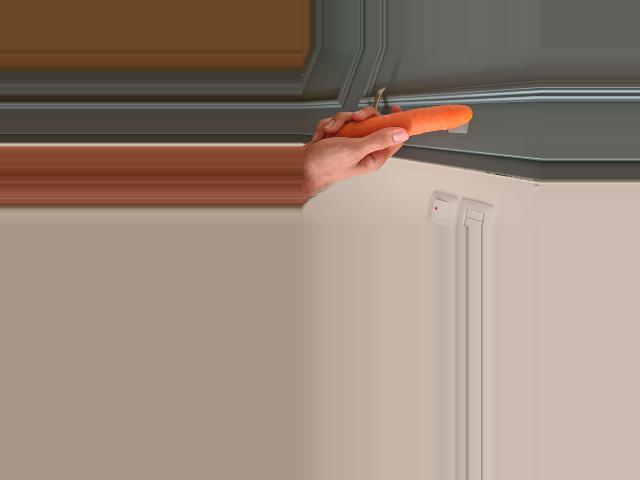carrot: (322, 105, 472, 144)
